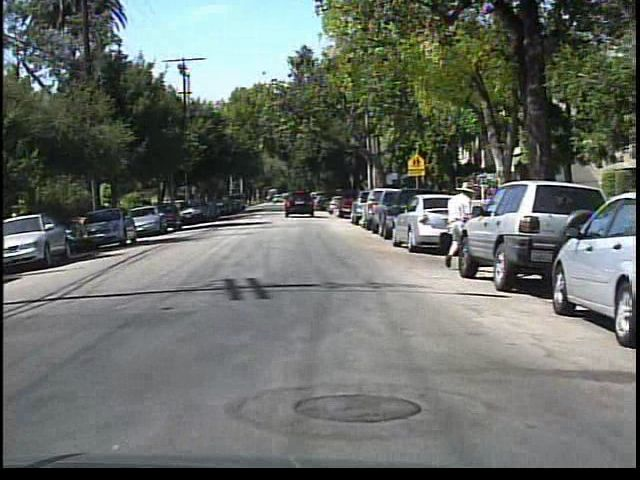person: (434, 181, 472, 270)
